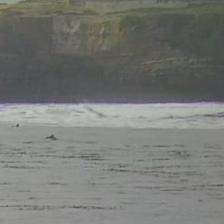surfer: (46, 134, 58, 140), (11, 123, 19, 128)
